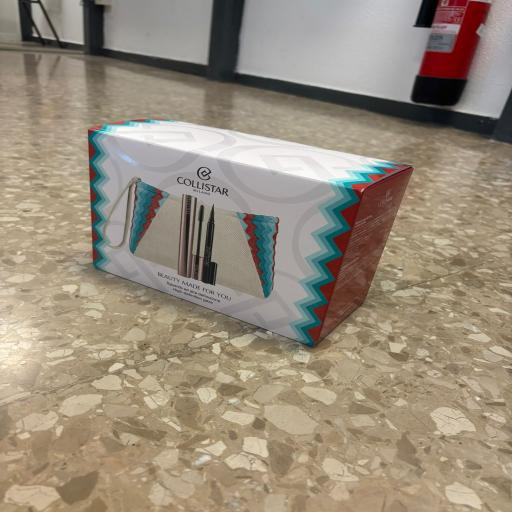caja_1: (89, 120, 411, 345)
